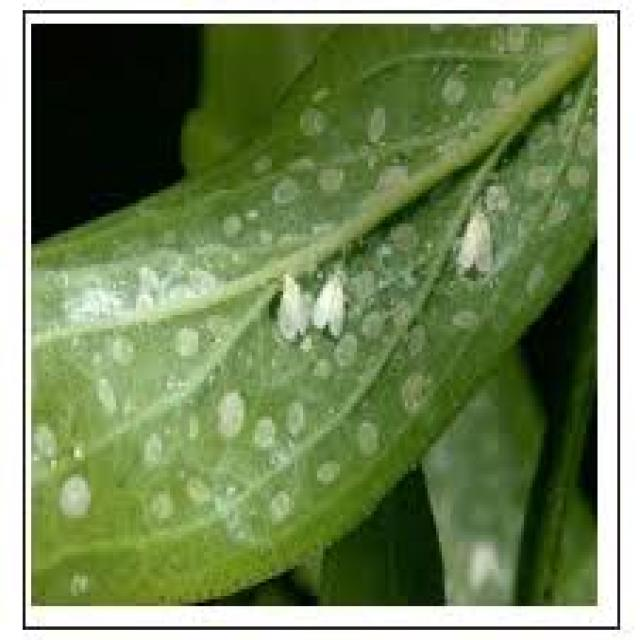Pestalotiopsis: (16, 217, 423, 577), (380, 154, 544, 359)
